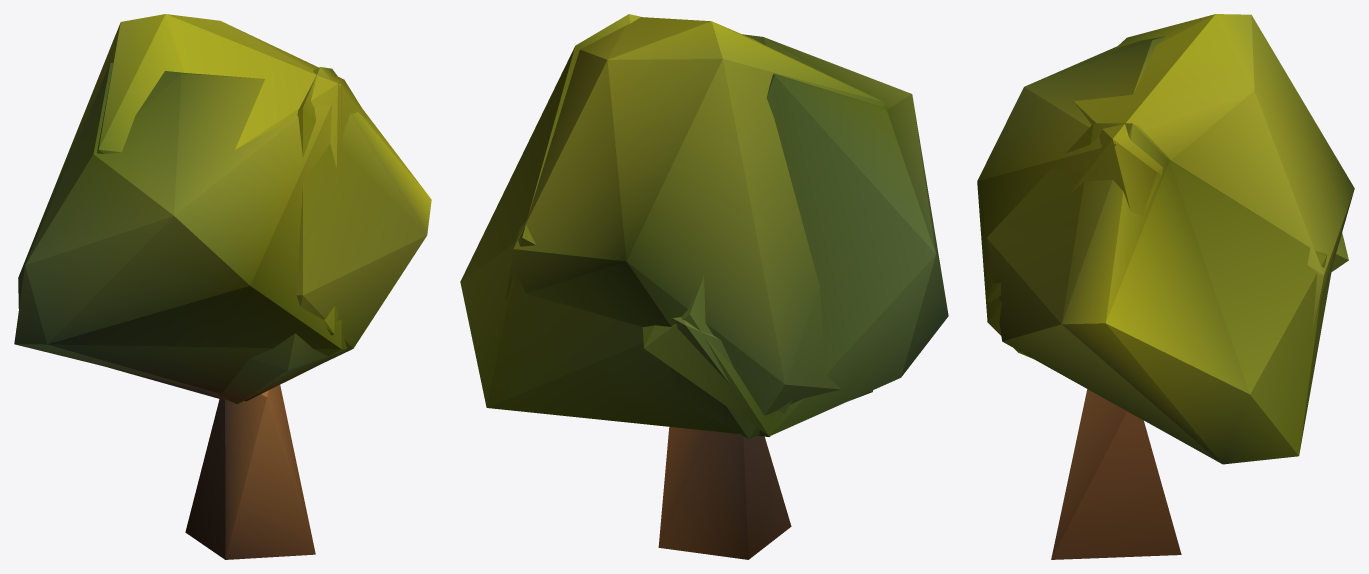
The model's file is forestTree.glb.
3 renders of one model, left to right at view 1: azimuth 30°, elevation 25°; view 2: azimuth 150°, elevation 25°; view 3: azimuth 270°, elevation 25°, orthographic. The views are drawn at different scales.
Parts seen in each view (by area): view 1: ForestCanopyMesh; view 2: ForestCanopyMesh; view 3: ForestCanopyMesh.
Part boxes in pixels (box(x1,y1,x2,y2)): ForestCanopyMesh: box(14, 14, 431, 559); ForestCanopyMesh: box(460, 14, 948, 559); ForestCanopyMesh: box(977, 14, 1354, 559).
Size of the model in its own units: 2.94 by 3.67 by 2.46.
